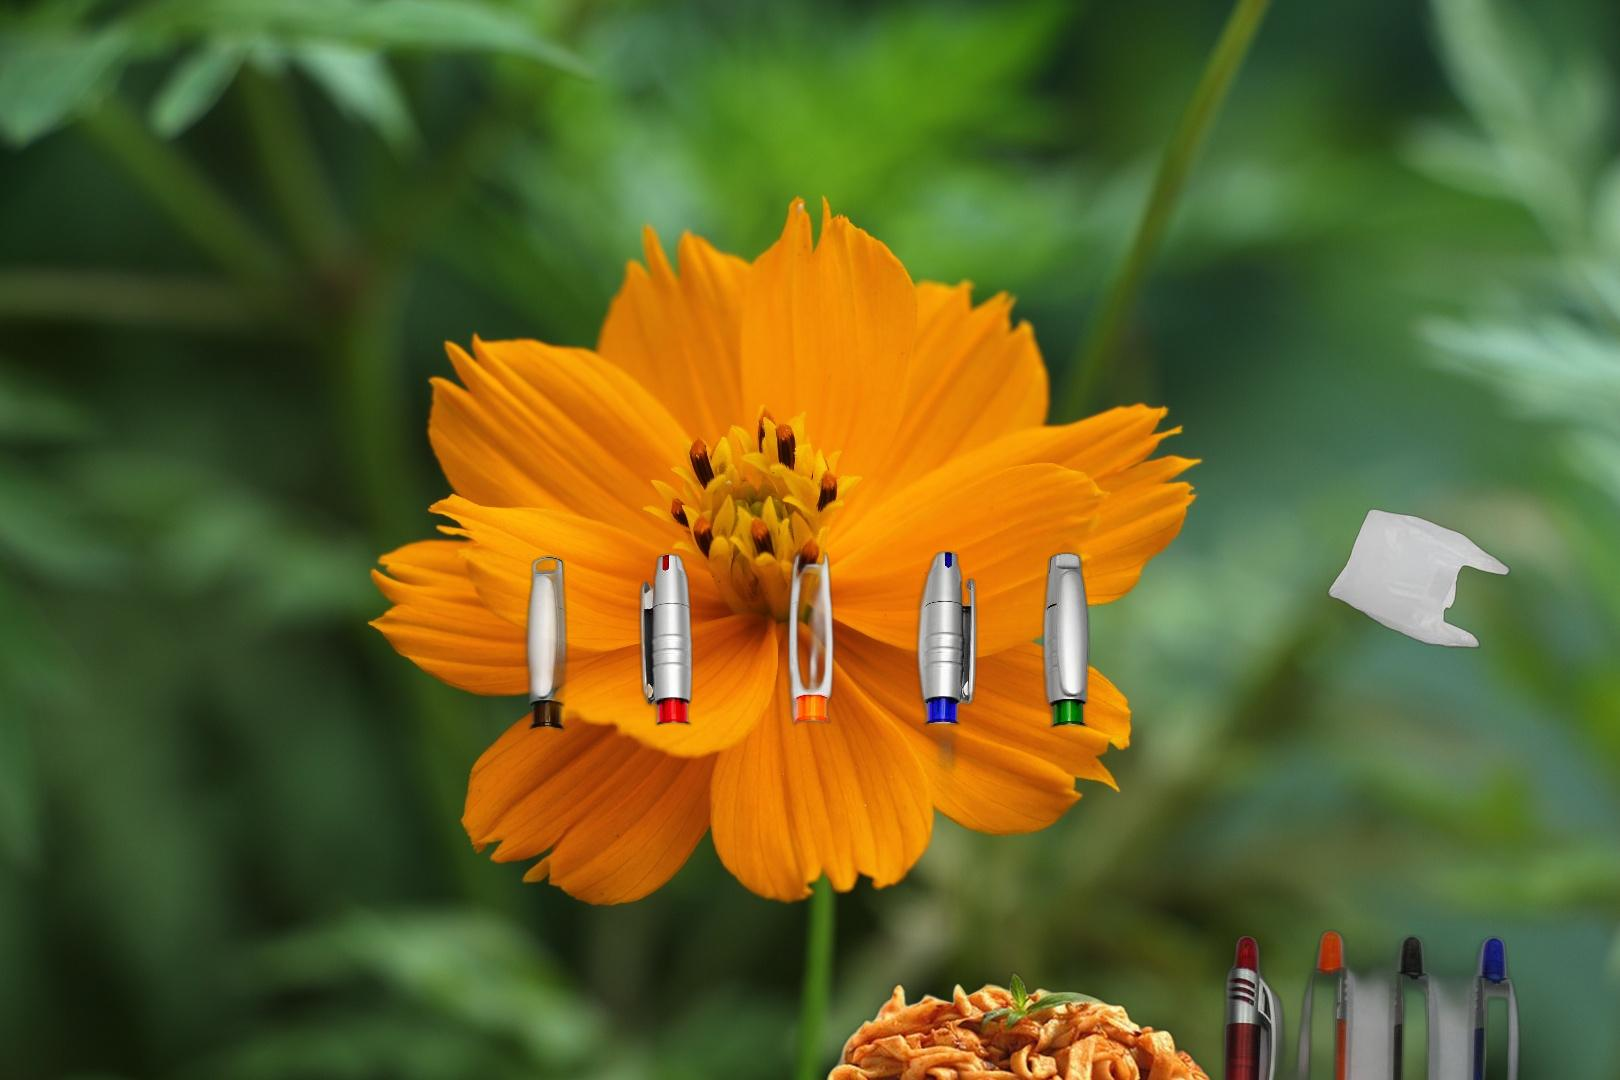biological: (815, 970, 1228, 1080)
penholder: (510, 547, 1110, 957), (1213, 922, 1596, 1080)
plastic-bag: (1325, 507, 1513, 651)
